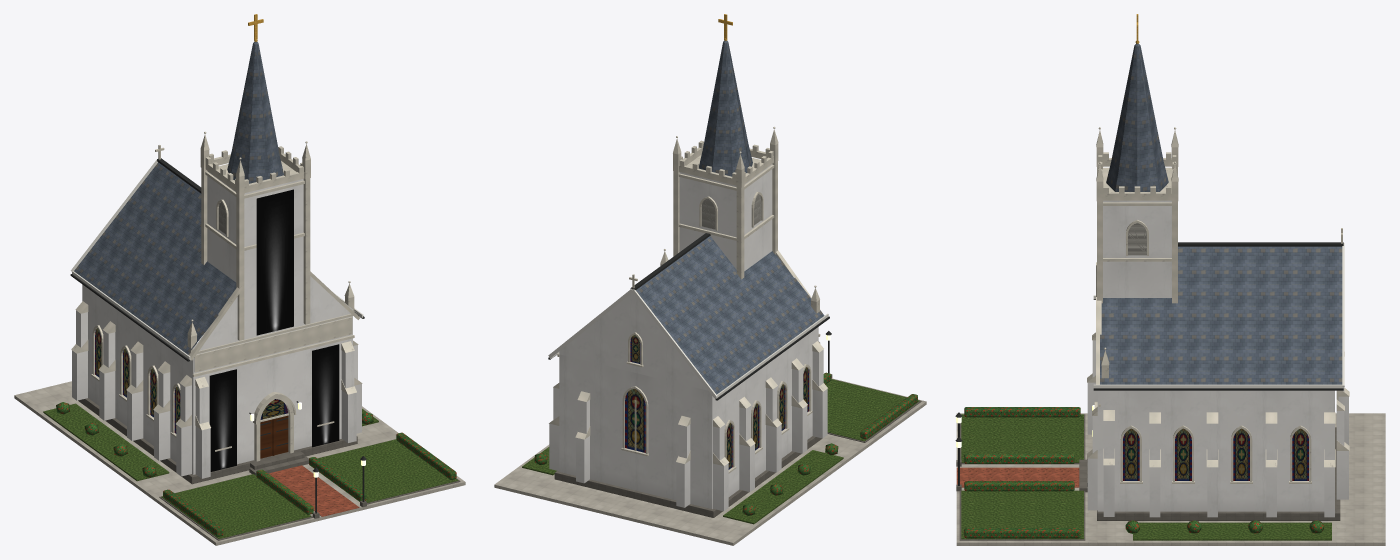
Rendered from LM_ENV_Church.glb.
3 renders of one model, left to right at view 1: azimuth 30°, elevation 25°; view 2: azimuth 150°, elevation 25°; view 3: azimuth 270°, elevation 25°, orthographic. The views are drawn at different scales.
Parts seen in each view (by area): view 1: Church | Render white, Church | Slate roof, Church | Limestone, Church | Lawn, Church | Night wash warm, Church | Plaza granite, Church | Ixora hedge, Church | Granite dark, Church | Laterite path, Church | Night glow stained glass, Church | Painted iron, Church | White fascia (+1 smaller); view 2: Church | Render white, Church | Slate roof, Church | Limestone, Church | Plaza granite, Church | Lawn, Church | Night glow stained glass, Church | Granite dark, Church | White fascia, Church | Ixora hedge, Church | Painted iron, Church | Belfry louvre; view 3: Church | Slate roof, Church | Render white, Church | Lawn, Church | Plaza granite, Church | Limestone, Church | Ixora hedge, Church | Granite dark, Church | Night glow stained glass, Church | Laterite path, Church | Painted iron, Church | White fascia, Church | Belfry louvre.
Boxes of the visible parts, x1,y1,x2,y2 form: Church | Render white: (72,171,361,478); Church | Slate roof: (74,42,283,354); Church | Limestone: (71,131,362,461); Church | Lawn: (43,403,458,538); Church | Night wash warm: (209,189,339,471); Church | Plaza granite: (14,381,465,545); Church | Ixora hedge: (56,402,456,536); Church | Granite dark: (78,398,460,540); Church | Laterite path: (268,465,359,516); Church | Night glow stained glass: (95,328,287,433); Church | Painted iron: (70,158,366,513); Church | White fascia: (70,160,363,360); Church | Render white: (549,164,827,511); Church | Slate roof: (636,40,824,394); Church | Limestone: (549,126,827,473); Church | Plaza granite: (494,378,926,545); Church | Lawn: (522,379,919,524); Church | Night glow stained glass: (625,335,808,469); Church | Granite dark: (554,374,921,517); Church | White fascia: (548,288,828,399); Church | Ixora hedge: (534,372,917,515); Church | Painted iron: (548,233,831,400); Church | Belfry louvre: (701,194,761,229); Church | Slate roof: (1100,43,1342,384); Church | Render white: (1087,200,1348,517); Church | Lawn: (961,414,1331,540); Church | Plaza granite: (956,413,1385,545); Church | Limestone: (1087,127,1349,483); Church | Ixora hedge: (964,407,1323,538); Church | Granite dark: (956,414,1340,540); Church | Night glow stained glass: (1123,428,1308,480); Church | Laterite path: (956,467,1079,487); Church | Painted iron: (955,242,1343,485); Church | White fascia: (1093,243,1344,388); Church | Belfry louvre: (1128,222,1146,255).
Size of the model in its own units: 20 by 33.6 by 28.09.
16 materials, 13 textured.
